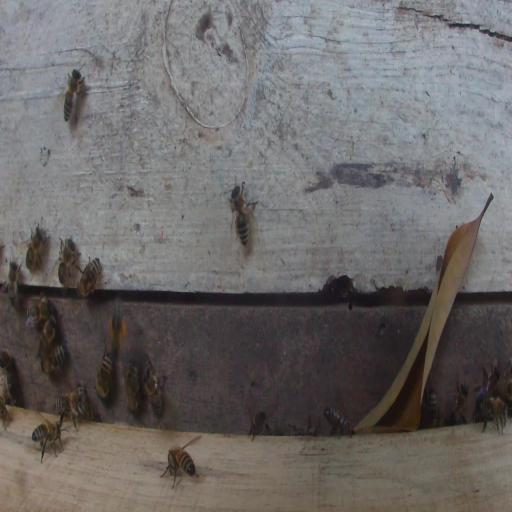nonpollenbee: (229, 184, 252, 250), (163, 445, 197, 489), (55, 385, 87, 430), (62, 68, 87, 125), (31, 419, 62, 463), (143, 361, 166, 417), (25, 222, 50, 272), (476, 397, 508, 435), (0, 347, 21, 402), (95, 343, 114, 402), (57, 237, 79, 286), (77, 255, 101, 298), (2, 259, 22, 309), (323, 405, 354, 437), (475, 364, 500, 403), (447, 379, 468, 424), (124, 359, 141, 414), (38, 314, 57, 361), (248, 408, 271, 442), (45, 343, 67, 377), (25, 298, 49, 328), (421, 387, 438, 427), (0, 391, 10, 431), (504, 355, 512, 398)
pollenbee: (108, 298, 126, 361)
